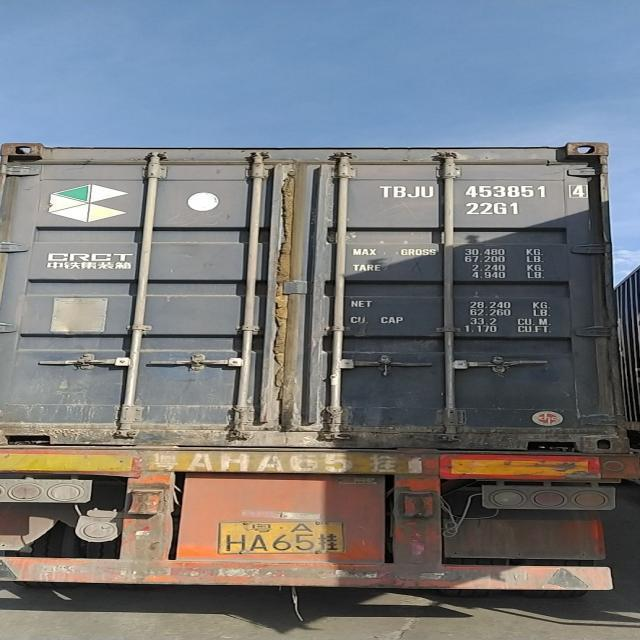ISO: (460, 198, 526, 213)
container_number: (393, 180, 590, 200)
